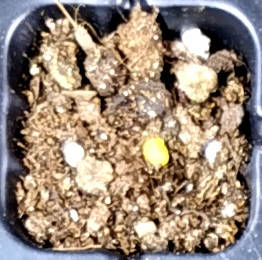pepper seed: (57, 53, 227, 221)
